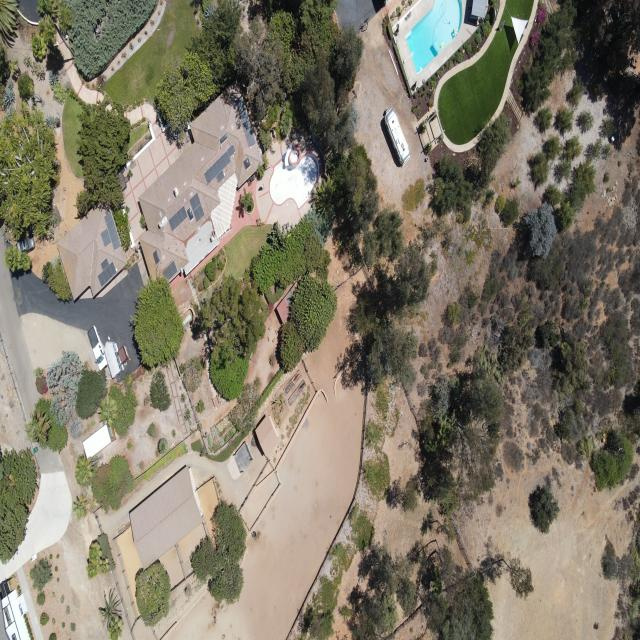solar-panels: (200, 144, 245, 190), (234, 96, 257, 148), (95, 212, 122, 254), (90, 257, 120, 287), (164, 205, 191, 232), (188, 192, 206, 223), (159, 260, 181, 282)
